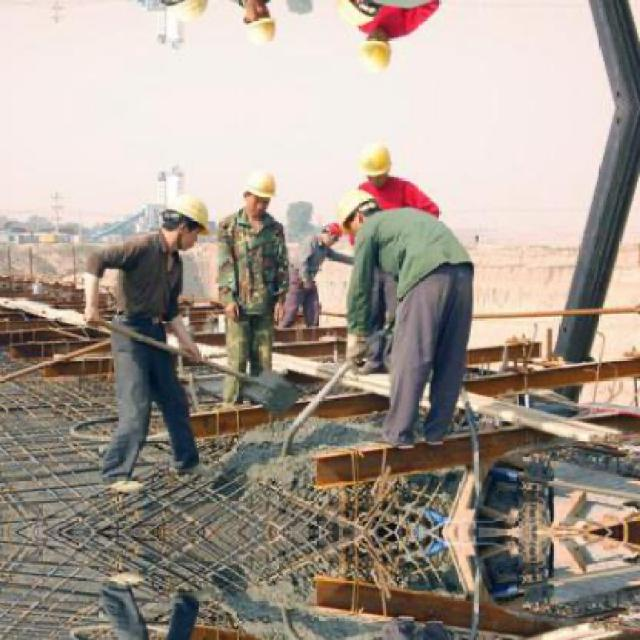con casco: (132, 193, 247, 283), (317, 193, 395, 255), (258, 162, 304, 219), (355, 145, 405, 197)
